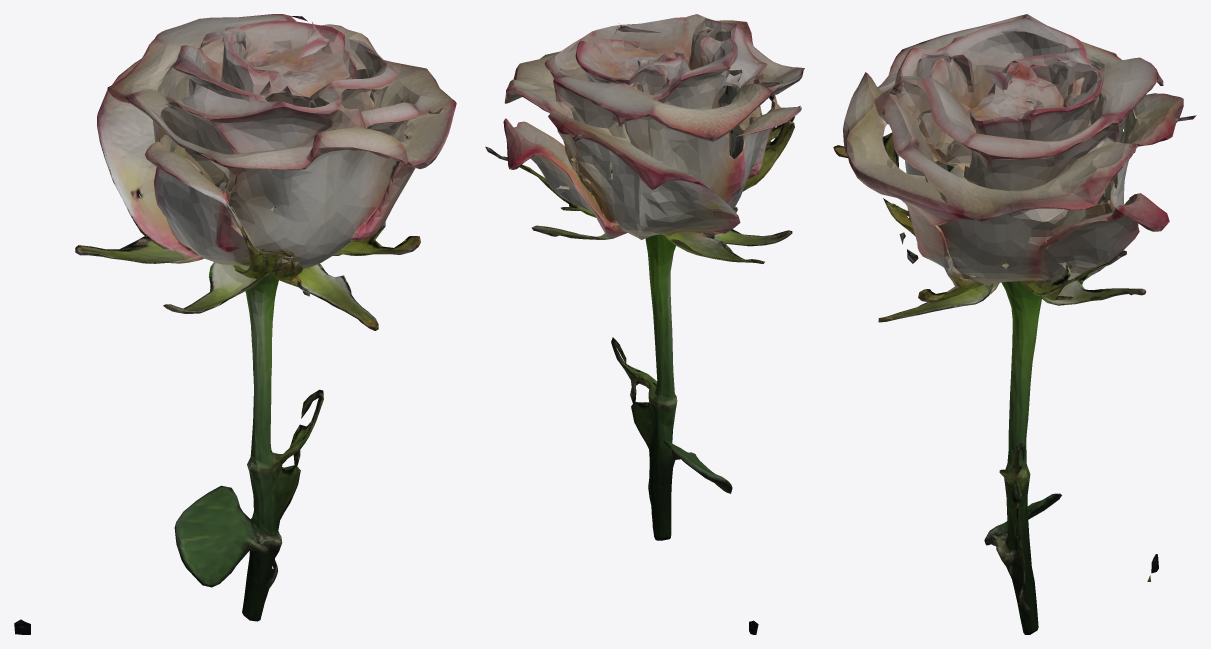
3 views of the same model, side by side, from view 1: azimuth 30°, elevation 25°; view 2: azimuth 150°, elevation 25°; view 3: azimuth 270°, elevation 25° (orthographic). The views are drawn at different scales.
Visible parts, largest first — view 1: world; view 2: world; view 3: world.
Part boxes in pixels (x1,y1,x2,y2): world: (14, 14, 456, 634); world: (485, 14, 804, 634); world: (833, 14, 1196, 634).
Bounding box in the file's own units: 0.594 × 0.9919 × 0.5323.
Materials: 1 (1 with a texture image).
